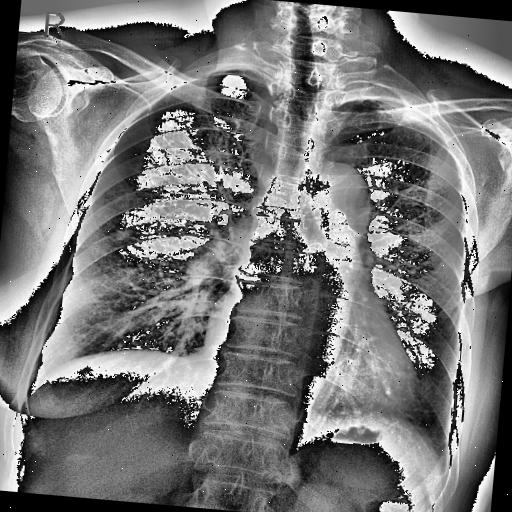0- Aortic enlargement: (293, 158, 375, 228), (300, 160, 374, 226), (312, 161, 376, 222)
11- Pleural thickening: (328, 78, 448, 138), (360, 84, 448, 130), (368, 93, 452, 137), (218, 62, 262, 72)
3- Cardiomegaly: (199, 304, 428, 426)
